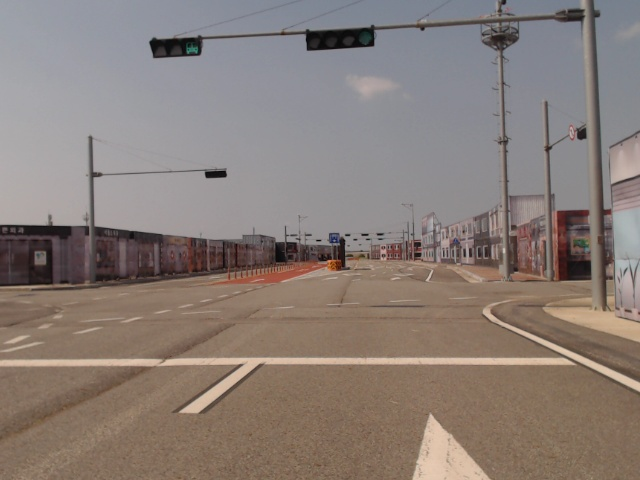straight_green_4: (307, 27, 374, 52)
